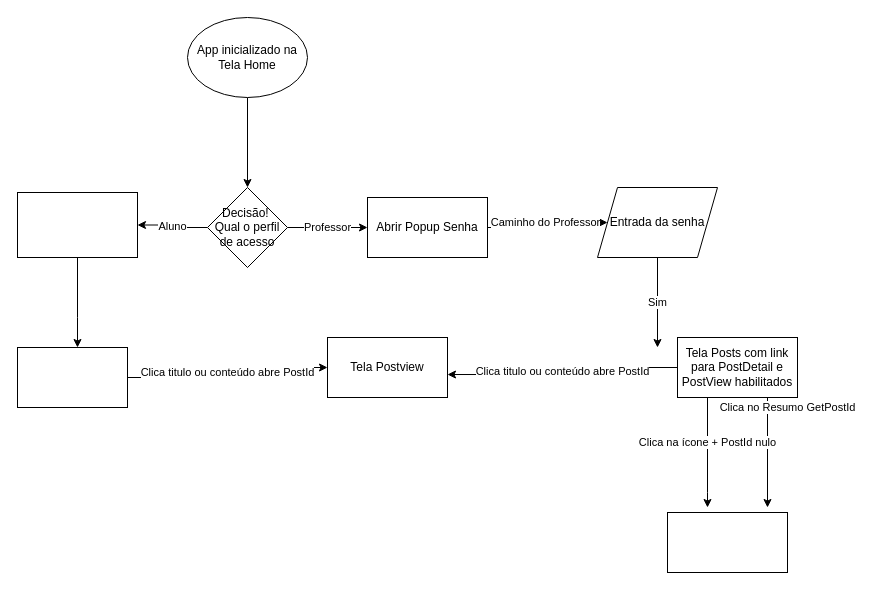
Some shapes in this 873 by 590 pixel diagram are drawn without their labels. The centre of each missing label's shape, as x and y in pixels:
"Definir IsAdmin = False" goes at point (77, 225).
"Tela PostDetail com opções Deletar, Alterar/salvar e Criar" goes at point (727, 542).
"Tela Posts lista dos textos" goes at point (72, 377).
